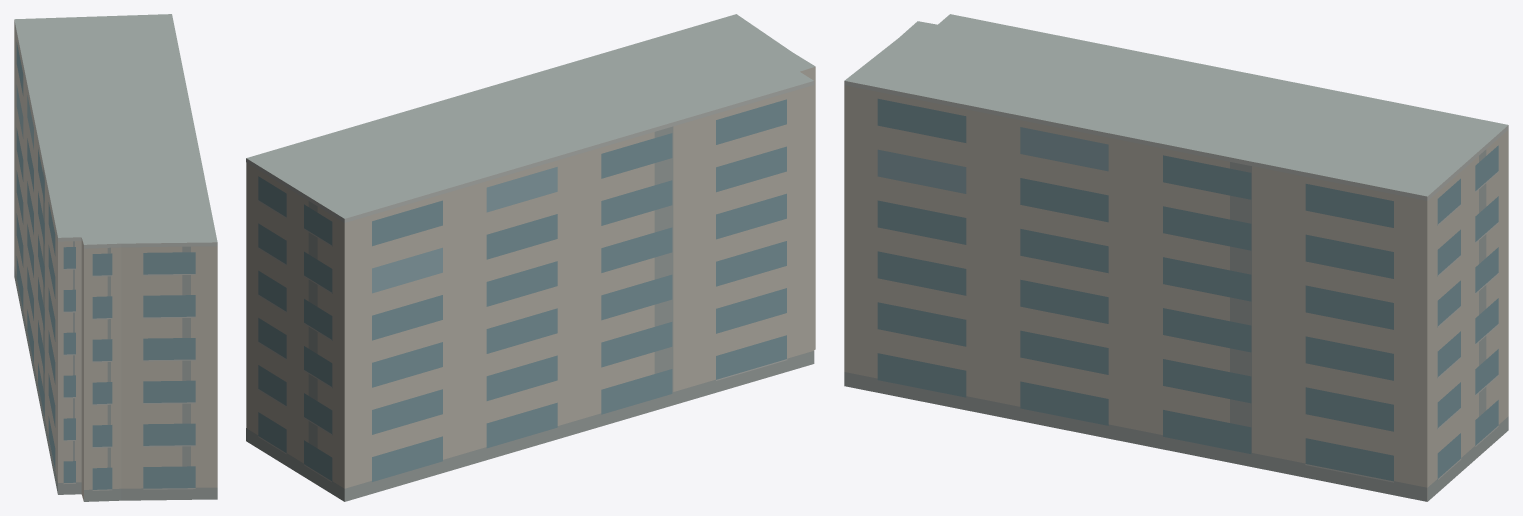
Rendered from survey-upis-32550473.glb.
The picture shows the model from 3 angles, left to right: view 1: azimuth 30°, elevation 25°; view 2: azimuth 150°, elevation 25°; view 3: azimuth 270°, elevation 25°; orthographic projection. The views are drawn at different scales.
Visible parts, largest first — view 1: survey-upis-32550473.tmp; view 2: survey-upis-32550473.tmp; view 3: survey-upis-32550473.tmp.
Boxes of the visible parts, x1,y1,x2,y2 form: survey-upis-32550473.tmp: [14, 14, 217, 501]; survey-upis-32550473.tmp: [246, 14, 815, 501]; survey-upis-32550473.tmp: [844, 14, 1508, 501].
Bounding box in the file's own units: 21.36 × 16.65 × 32.84.
